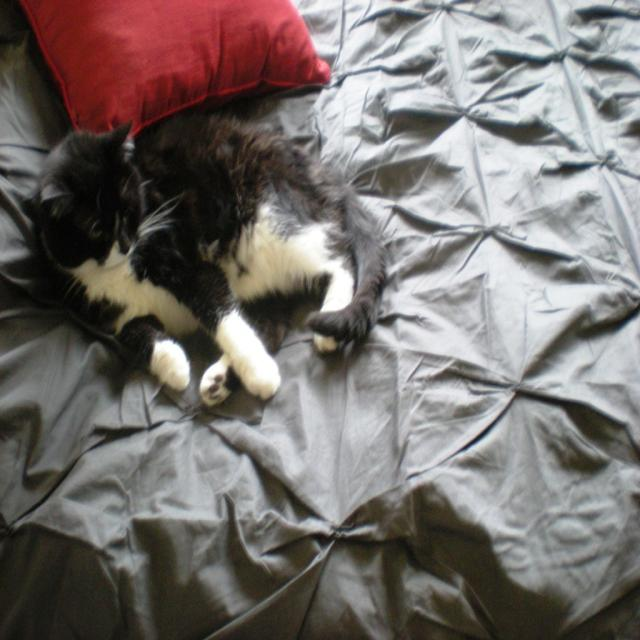Cat: (18, 110, 388, 405)
